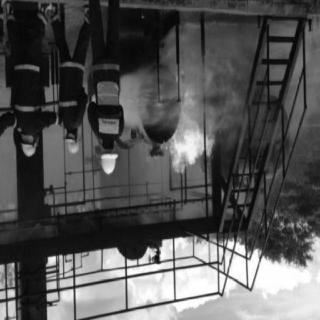other: (39, 5, 59, 29)
